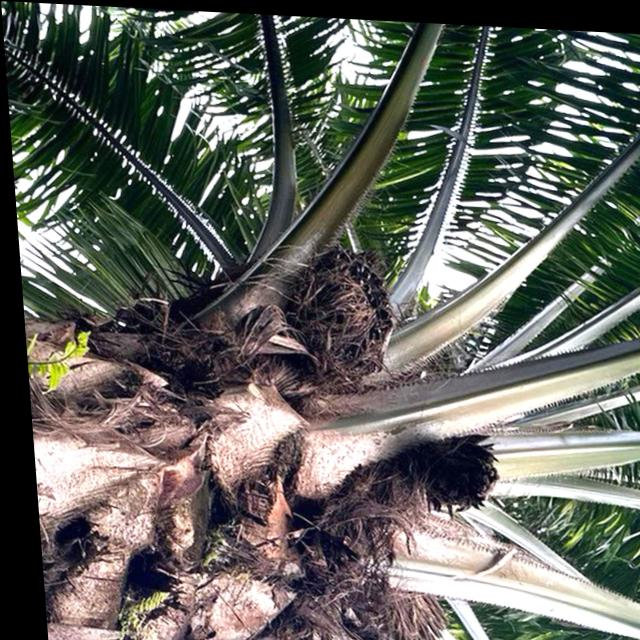almost: (265, 241, 401, 378)
